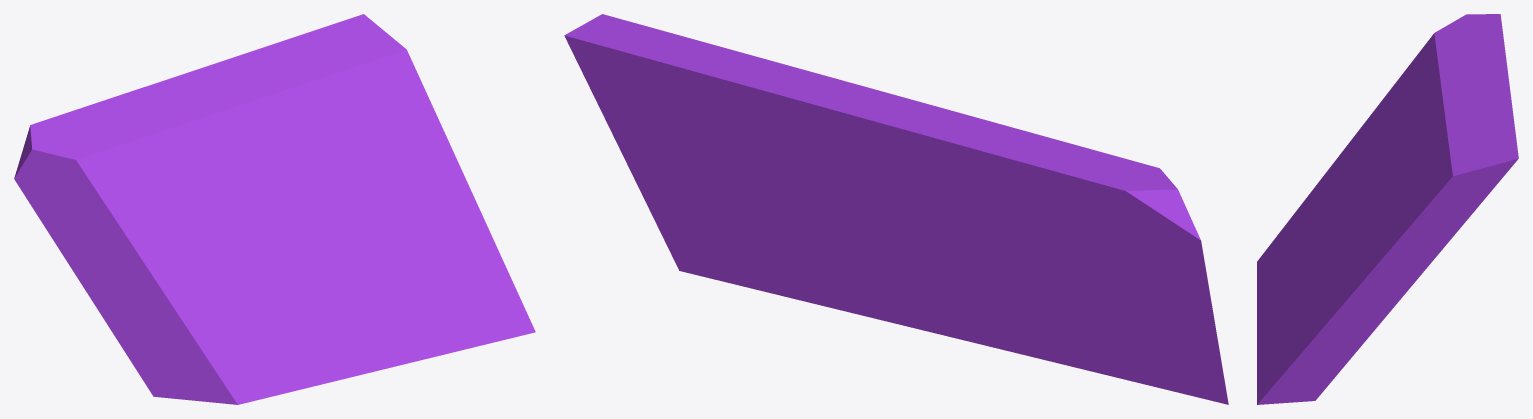
File: Window_130_1_chunks.fbx
3 views of the same model, side by side, from view 1: azimuth 30°, elevation 25°; view 2: azimuth 150°, elevation 25°; view 3: azimuth 270°, elevation 25° (orthographic). The views are drawn at different scales.
Parts seen in each view (by area): view 1: Window_130_1_2, Window_130_1_1, Window_130_1_5, Window_130_1_4, Window_130_1_7, Window_130_1_8, Window_130_1_9, Window_130_1_6; view 2: Window_130_1_2, Window_130_1_1, Window_130_1_5, Window_130_1_4, Window_130_1_3, Window_130_1_0; view 3: Window_130_1_2, Window_130_1_5, Window_130_1_1, Window_130_1_4, Window_130_1_7, Window_130_1_8, Window_130_1_9, Window_130_1_6.
Boxes of the visible parts, x1=… form: Window_130_1_2: x1=153, y1=14, x2=486, y2=225; Window_130_1_1: x1=14, y1=84, x2=239, y2=378; Window_130_1_5: x1=289, y1=209, x2=535, y2=338; Window_130_1_4: x1=142, y1=205, x2=315, y2=402; Window_130_1_7: x1=330, y1=283, x2=507, y2=351; Window_130_1_8: x1=286, y1=337, x2=456, y2=392; Window_130_1_9: x1=259, y1=278, x2=340, y2=367; Window_130_1_6: x1=215, y1=346, x2=294, y2=404; Window_130_1_2: x1=564, y1=14, x2=965, y2=224; Window_130_1_1: x1=920, y1=114, x2=1226, y2=391; Window_130_1_5: x1=651, y1=212, x2=912, y2=298; Window_130_1_4: x1=898, y1=247, x2=1228, y2=404; Window_130_1_3: x1=792, y1=272, x2=1034, y2=347; Window_130_1_0: x1=797, y1=207, x2=1009, y2=271; Window_130_1_2: x1=1331, y1=67, x2=1518, y2=340; Window_130_1_5: x1=1257, y1=189, x2=1371, y2=404; Window_130_1_1: x1=1322, y1=14, x2=1507, y2=177; Window_130_1_4: x1=1271, y1=157, x2=1381, y2=243; Window_130_1_7: x1=1257, y1=254, x2=1318, y2=391; Window_130_1_8: x1=1257, y1=276, x2=1283, y2=366; Window_130_1_9: x1=1272, y1=242, x2=1323, y2=287; Window_130_1_6: x1=1257, y1=243, x2=1290, y2=284.
Size of the model in its own units: 818 by 436 by 454.
